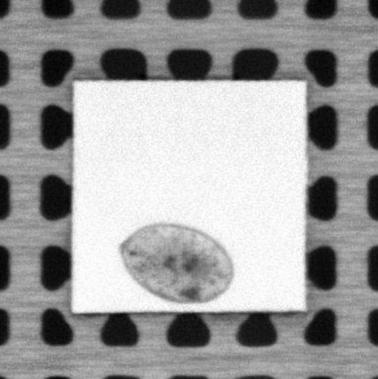DIE_INK: (118, 220, 235, 303)
